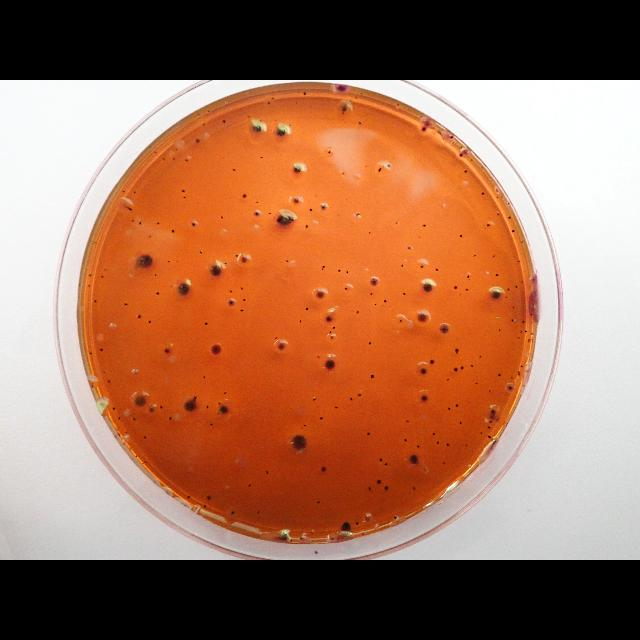colony: (134, 252, 154, 270), (290, 433, 308, 452), (276, 211, 296, 227), (176, 282, 192, 298), (132, 394, 148, 408), (209, 262, 223, 278), (274, 124, 288, 138), (184, 399, 198, 413), (339, 520, 351, 534), (408, 452, 420, 466), (438, 322, 450, 336), (210, 342, 222, 356), (251, 122, 263, 134), (422, 282, 434, 294), (324, 358, 336, 370), (488, 289, 502, 299), (292, 163, 304, 174), (418, 366, 428, 376), (369, 277, 379, 287), (418, 312, 428, 322), (277, 342, 287, 352), (335, 84, 347, 92), (314, 290, 326, 298), (219, 406, 229, 414), (420, 394, 428, 402), (340, 104, 348, 112), (292, 196, 300, 204), (325, 315, 333, 323), (227, 299, 235, 307), (148, 406, 156, 412), (320, 465, 326, 473), (490, 407, 496, 415), (241, 256, 247, 264), (195, 138, 201, 144), (242, 193, 248, 199), (127, 206, 133, 212), (158, 404, 164, 410), (376, 478, 382, 484), (383, 485, 389, 491), (486, 434, 492, 440), (507, 385, 513, 391), (454, 348, 460, 354), (494, 272, 500, 278), (452, 284, 458, 290), (485, 222, 491, 228), (462, 168, 468, 174), (458, 152, 464, 158), (321, 204, 327, 210), (355, 212, 361, 218), (203, 320, 209, 326), (284, 258, 290, 264), (370, 372, 374, 380), (222, 118, 226, 124), (254, 212, 260, 216), (192, 222, 196, 228), (156, 220, 160, 226), (171, 228, 175, 234), (136, 314, 142, 318), (132, 416, 136, 422), (143, 434, 147, 440), (209, 422, 213, 428), (142, 460, 148, 464), (206, 496, 212, 500), (202, 504, 208, 508), (231, 510, 235, 516), (248, 482, 252, 488), (355, 521, 359, 527), (368, 486, 372, 492), (379, 456, 383, 462), (459, 420, 463, 426), (488, 388, 492, 394), (496, 373, 502, 377), (454, 366, 458, 372), (430, 359, 434, 365), (520, 320, 526, 324), (514, 285, 520, 289), (458, 234, 464, 238), (422, 126, 426, 132), (326, 150, 332, 154), (377, 168, 383, 172), (395, 220, 399, 226), (422, 222, 426, 228), (406, 246, 412, 250), (434, 266, 438, 272), (383, 298, 387, 304), (299, 319, 303, 325), (368, 340, 372, 346), (357, 392, 361, 398), (334, 406, 340, 410), (312, 396, 316, 402), (242, 298, 248, 302), (164, 348, 168, 354), (446, 442, 449, 448), (451, 134, 454, 140), (240, 286, 243, 292), (202, 374, 205, 380), (162, 157, 166, 161), (172, 157, 176, 161), (185, 158, 189, 162), (260, 156, 264, 160), (232, 168, 236, 172), (182, 189, 186, 193), (138, 221, 142, 225), (199, 250, 203, 254), (167, 260, 171, 264), (156, 292, 160, 296), (124, 302, 128, 306), (101, 275, 105, 279), (89, 273, 93, 277), (93, 299, 97, 303), (87, 283, 91, 287), (148, 320, 152, 324), (100, 348, 104, 352), (89, 351, 93, 355), (111, 407, 115, 411), (117, 416, 121, 420), (168, 416, 172, 420), (193, 396, 197, 400), (265, 470, 269, 474), (256, 510, 260, 514), (317, 500, 321, 504), (310, 530, 314, 534), (412, 486, 416, 490), (394, 515, 398, 519), (384, 462, 388, 466), (367, 432, 371, 436), (403, 438, 407, 442), (416, 444, 420, 448), (442, 461, 446, 465), (432, 432, 436, 436), (447, 406, 451, 410), (405, 419, 409, 423), (487, 425, 491, 429), (474, 382, 478, 386), (460, 366, 464, 370), (470, 364, 474, 368), (478, 354, 482, 358), (520, 364, 524, 368), (519, 330, 523, 334), (517, 336, 521, 340), (511, 318, 515, 322), (498, 328, 502, 332), (506, 288, 510, 292), (466, 275, 470, 279), (465, 288, 469, 292), (492, 254, 496, 258), (472, 254, 476, 258), (511, 229, 515, 233), (520, 240, 524, 244), (508, 216, 512, 220), (506, 202, 510, 206), (481, 191, 485, 195), (396, 102, 400, 106), (358, 121, 362, 125), (341, 111, 345, 115), (354, 96, 358, 100), (341, 171, 345, 175), (386, 163, 390, 167), (305, 224, 309, 228), (400, 263, 404, 267), (420, 264, 424, 268), (402, 292, 406, 296), (370, 292, 374, 296), (344, 286, 348, 290), (337, 269, 341, 273), (345, 270, 349, 274), (332, 326, 336, 330), (305, 307, 309, 311), (330, 336, 334, 340), (399, 318, 403, 322), (349, 397, 353, 401), (319, 416, 323, 420), (495, 316, 499, 320), (148, 234, 152, 238), (235, 253, 239, 257), (240, 308, 244, 312), (202, 122, 205, 126), (247, 114, 250, 118), (255, 200, 259, 203), (220, 215, 223, 219), (133, 190, 137, 193), (102, 268, 108, 270), (187, 495, 190, 499), (436, 440, 439, 444), (466, 442, 468, 448), (456, 402, 458, 408), (480, 430, 482, 436), (446, 378, 449, 382), (496, 212, 499, 216), (177, 260, 180, 264), (274, 336, 278, 339), (150, 146, 152, 150), (154, 152, 158, 154), (207, 110, 211, 112), (198, 112, 200, 116), (268, 101, 270, 105), (272, 96, 274, 100), (304, 92, 306, 96), (289, 123, 291, 127), (268, 212, 272, 214), (131, 220, 135, 222), (154, 274, 156, 278), (107, 380, 111, 382), (206, 405, 208, 409), (300, 536, 302, 540), (490, 420, 492, 424), (524, 330, 528, 332), (530, 333, 534, 335), (528, 339, 530, 343), (504, 296, 508, 298), (520, 280, 524, 282), (518, 259, 520, 263), (495, 196, 499, 198), (310, 208, 312, 212), (369, 230, 371, 234), (374, 302, 376, 306), (321, 266, 325, 268), (329, 330, 331, 334), (356, 310, 358, 314), (303, 424, 307, 426), (224, 262, 226, 266), (230, 290, 232, 294), (224, 390, 226, 394), (182, 196, 185, 198), (122, 190, 125, 192), (501, 196, 504, 198), (511, 376, 514, 378), (175, 148, 177, 150), (218, 402, 220, 404), (518, 371, 520, 373), (518, 374, 520, 376), (530, 314, 532, 316), (512, 306, 514, 308), (321, 268, 323, 270)
